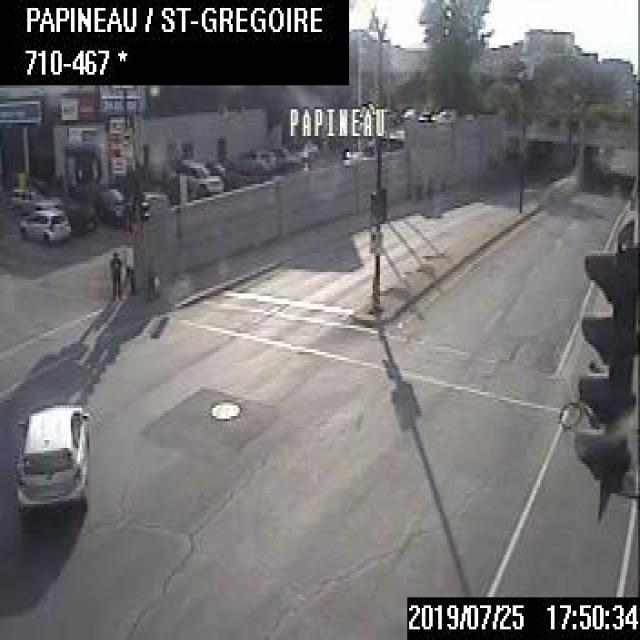pedestrian: (142, 253, 158, 304), (107, 251, 122, 301)
vehicle: (11, 400, 89, 509), (18, 203, 70, 243), (172, 156, 222, 192), (87, 185, 122, 226), (54, 198, 96, 232)
